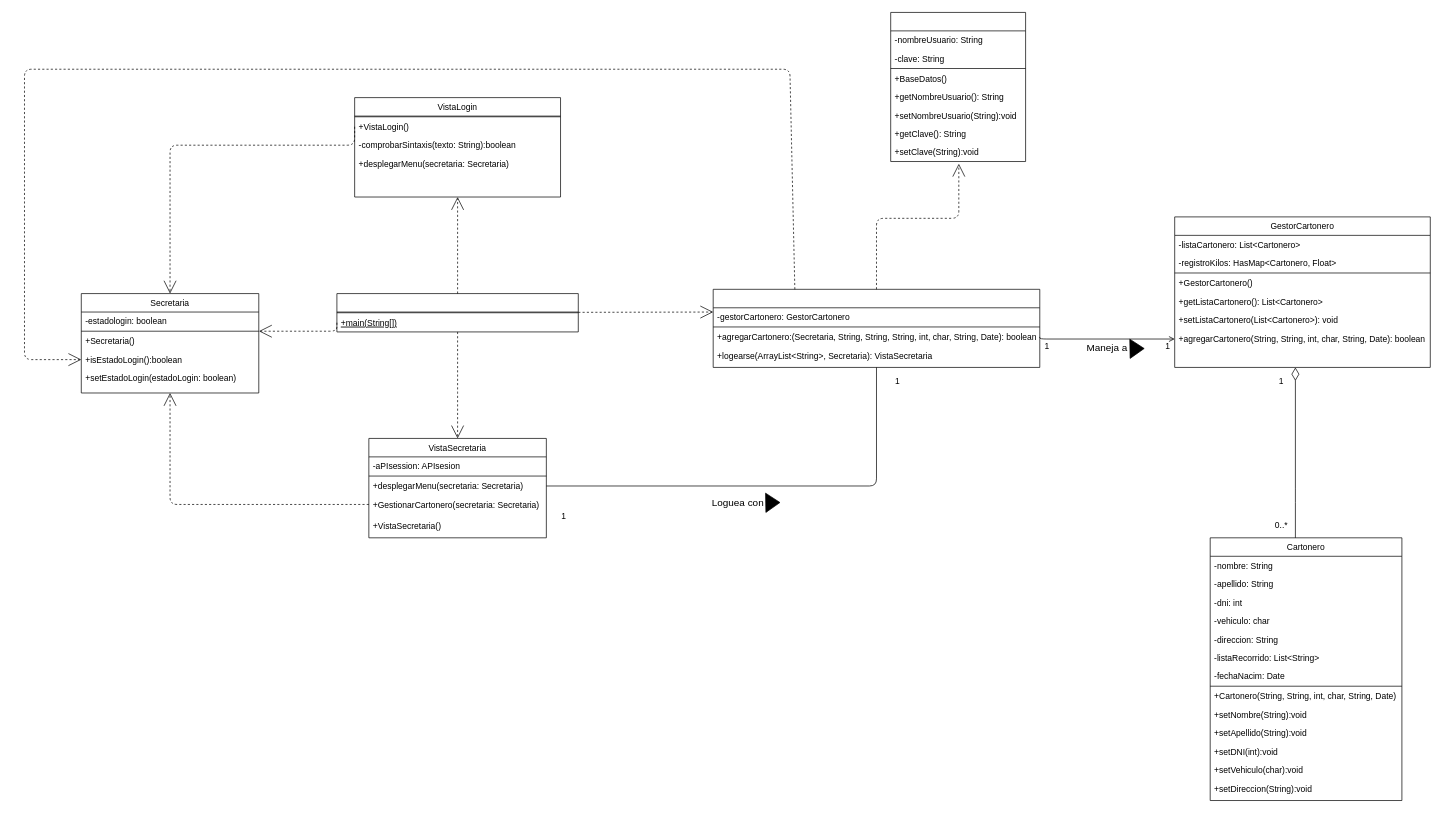
Some shapes in this 1443 by 813 pixel diagram are drawn without their labels. Here are the shapes that lost their labels. From the top down, the box of each, then its label:
(890, 12, 1026, 162): ValidadorUsuario
(336, 293, 578, 332): GestorDeVistas
(712, 289, 1040, 367): APIsesion
